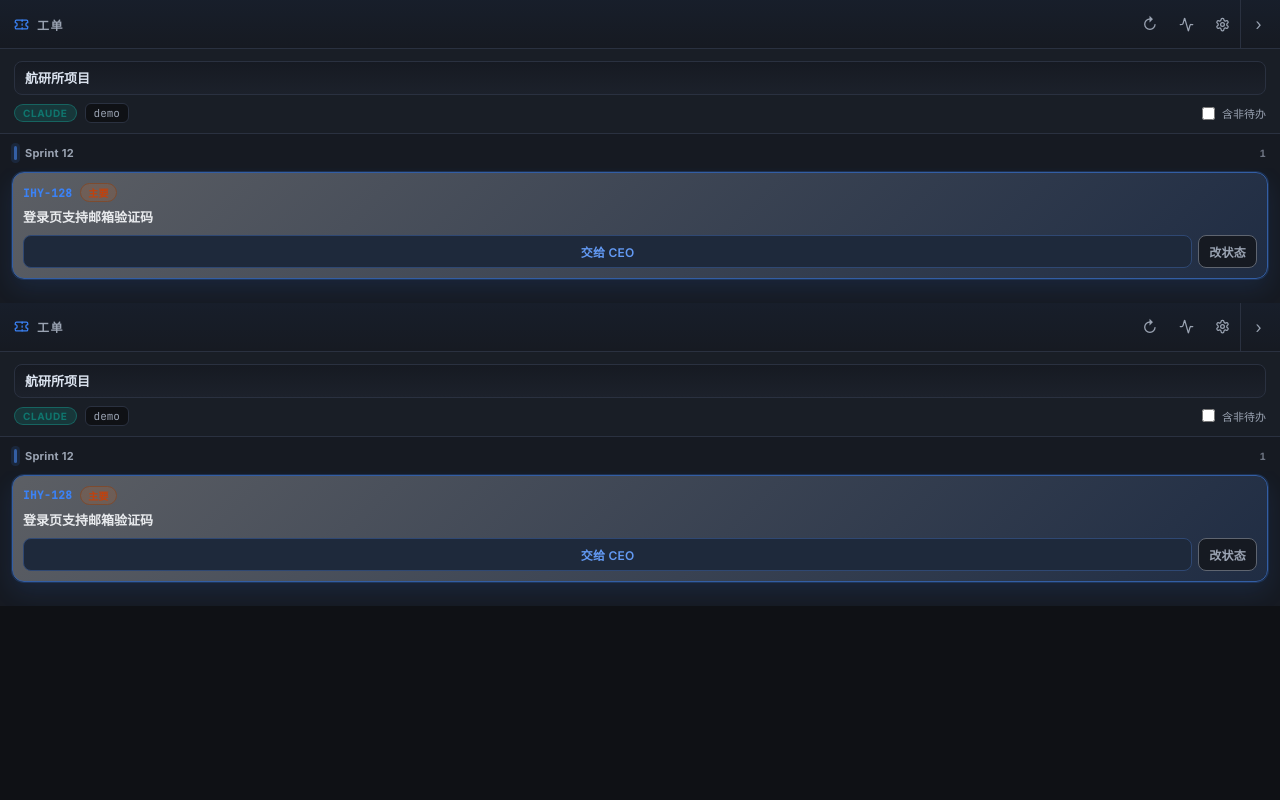
Scenario: TicketInbox (API) › requests issue states when opening change-state picker
Click the 2nd button "改状态" at (1228, 554), box x1=1198 y1=538 x2=1257 y2=571
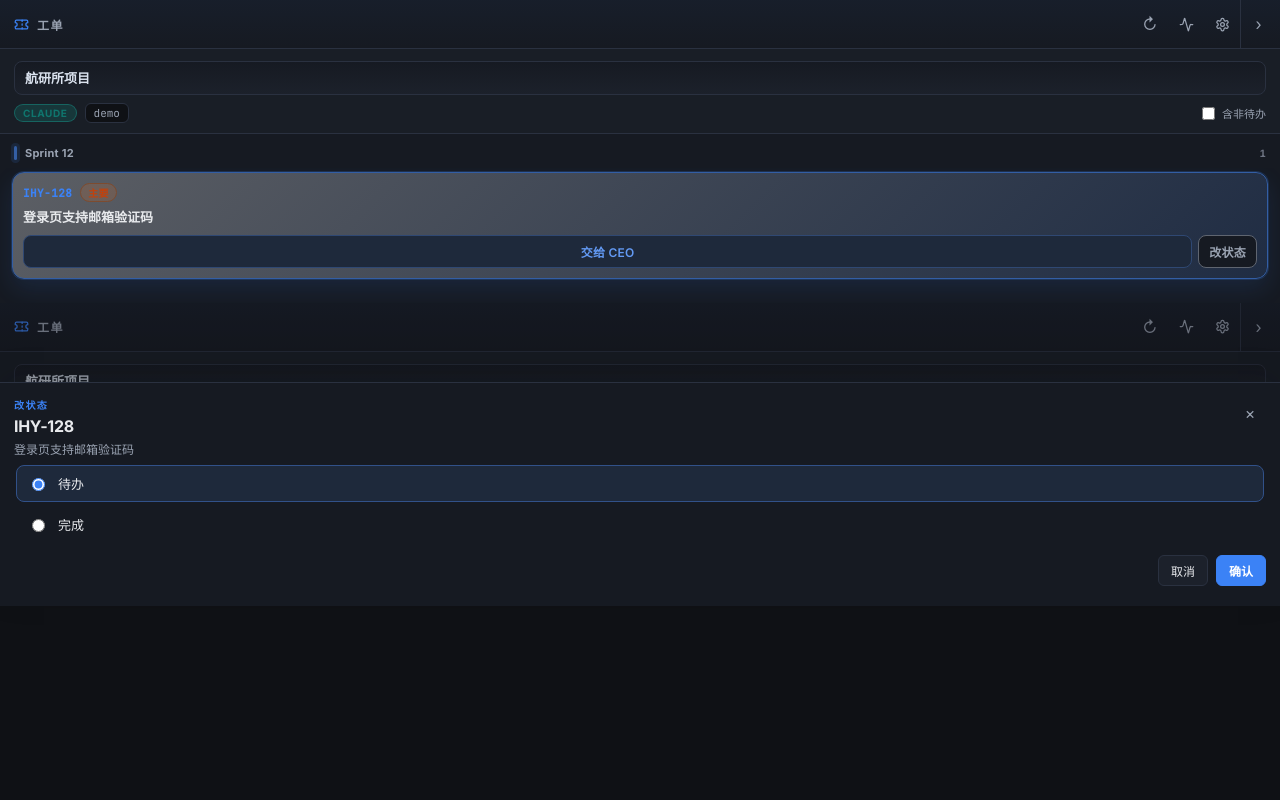
expect the text "完成" is shown: met, box x1=58 y1=515 x2=84 y2=534
